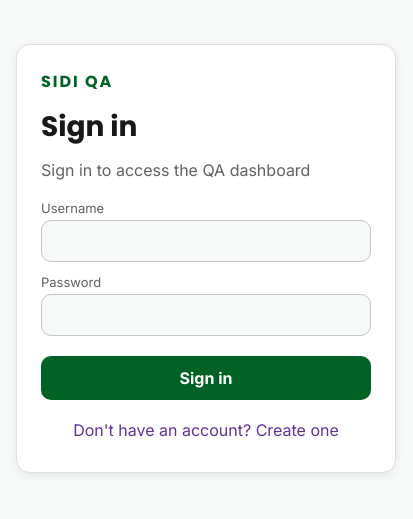
Test case: shows an error message on failure
This screenshot has width=413, height=519.
Type "qa" into the field labelled "Username" at (206, 240), box [41,220,371,262]
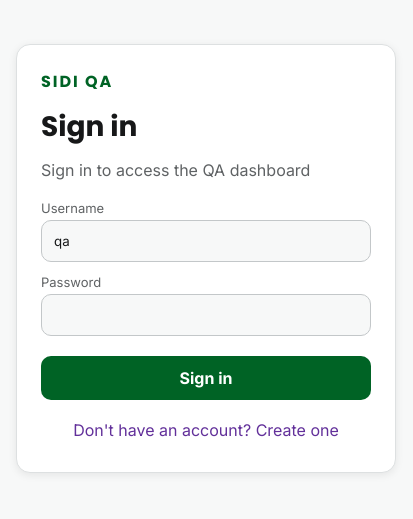
Type "bad" into the password field labelled "Password" at (206, 314), box [41,294,371,336]
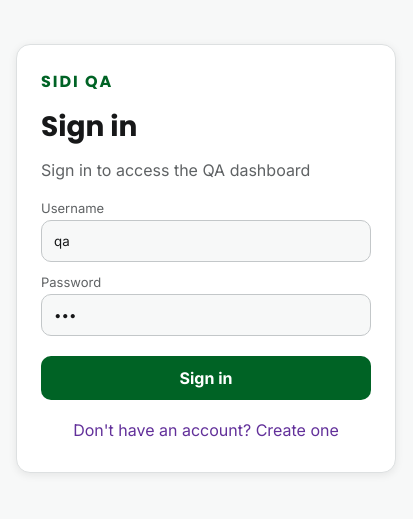
Click the button "Sign in" at (206, 378), box [41,356,371,400]
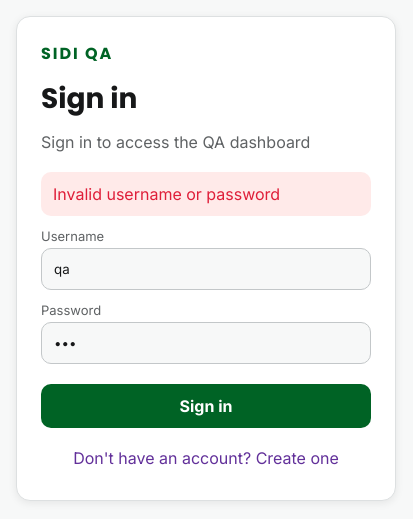
Check: the text "Invalid username or password" is shown, box [41,172,371,216]
